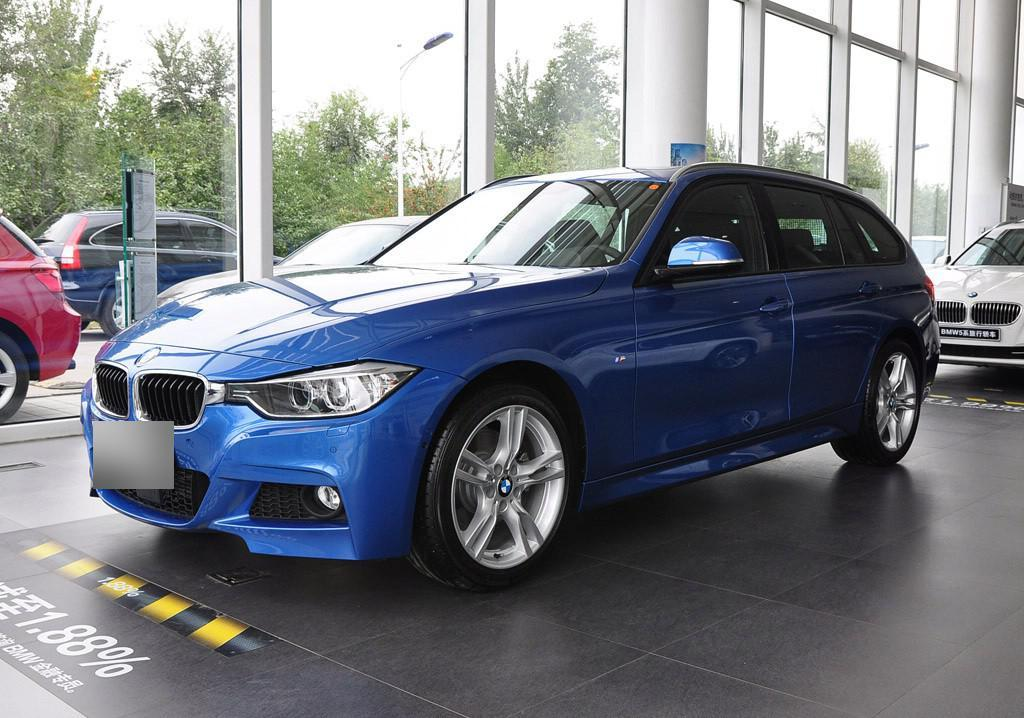Wagon: (80, 161, 942, 591)
